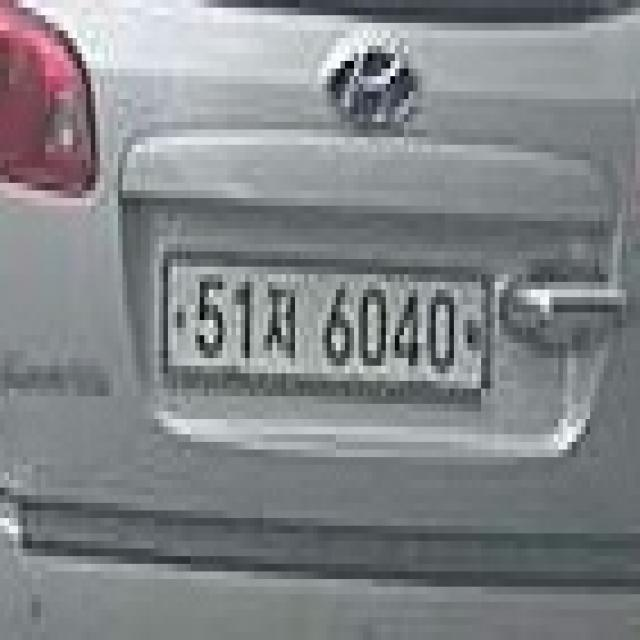0: (429, 285, 458, 378), (358, 283, 386, 375)
1: (231, 278, 258, 366)
4: (390, 284, 425, 374)
5: (191, 274, 227, 360)
6: (316, 282, 354, 378)
jeo: (262, 276, 302, 372)
license_plate: (152, 233, 502, 415)
